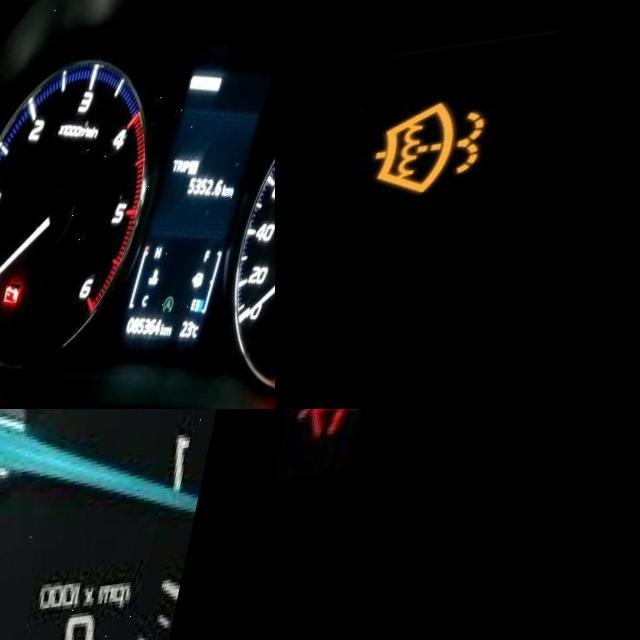Seat Belt: (310, 409, 390, 454)
Washer Fluid: (381, 106, 506, 209)
